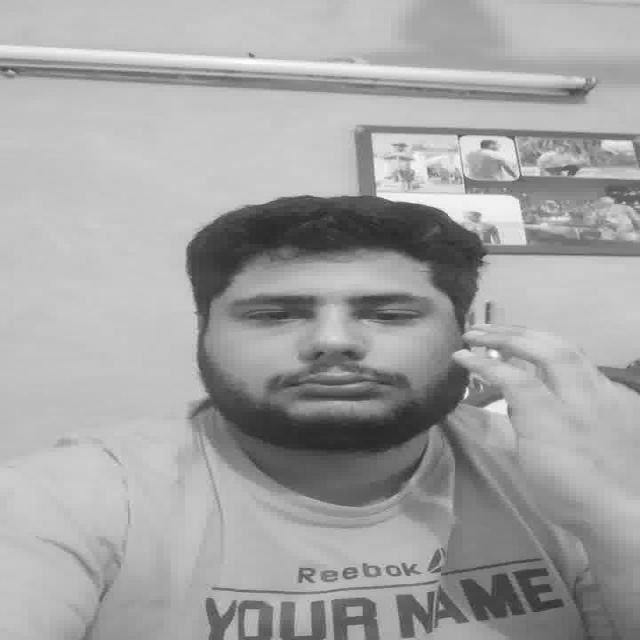fake: (446, 298, 548, 414)
real: (198, 245, 461, 455), (222, 284, 440, 336)
